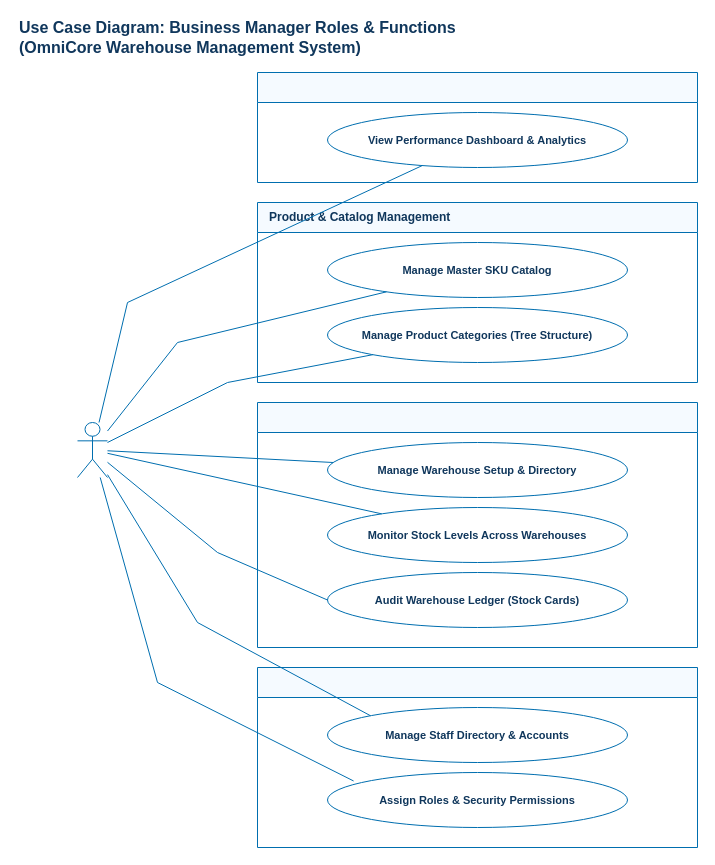
This 715x865 diagram has some shape labels left out. The shapes that lost their labels are listed below. From the top down, each one's box as (x1, y1, x2, y2) in pixels, then its label:
(256, 72, 698, 182): Analytics & Reporting
(76, 422, 108, 478): Business Manager
(256, 402, 698, 648): Warehouse & Stock Operations
(256, 666, 698, 848): Personnel & Security Management
